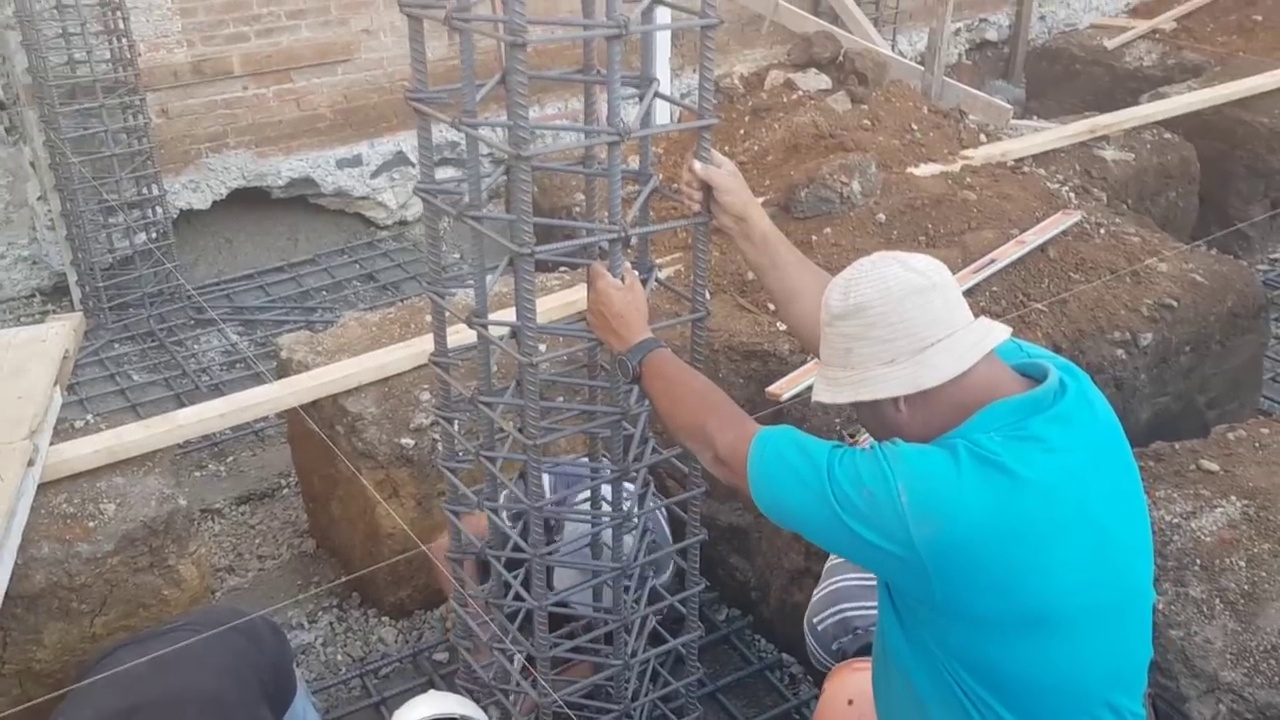helmet: (433, 504, 490, 597), (381, 683, 493, 720)
helmet-off: (802, 253, 1047, 445)
helmet-on: (430, 502, 531, 590)
person: (585, 151, 1156, 720), (429, 456, 676, 694)
